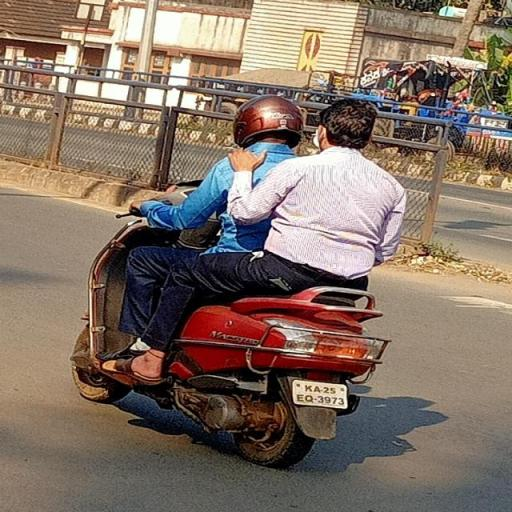bike: (68, 85, 412, 466)
numberplate: (294, 378, 352, 414)
withouthelmet: (322, 100, 376, 150)
